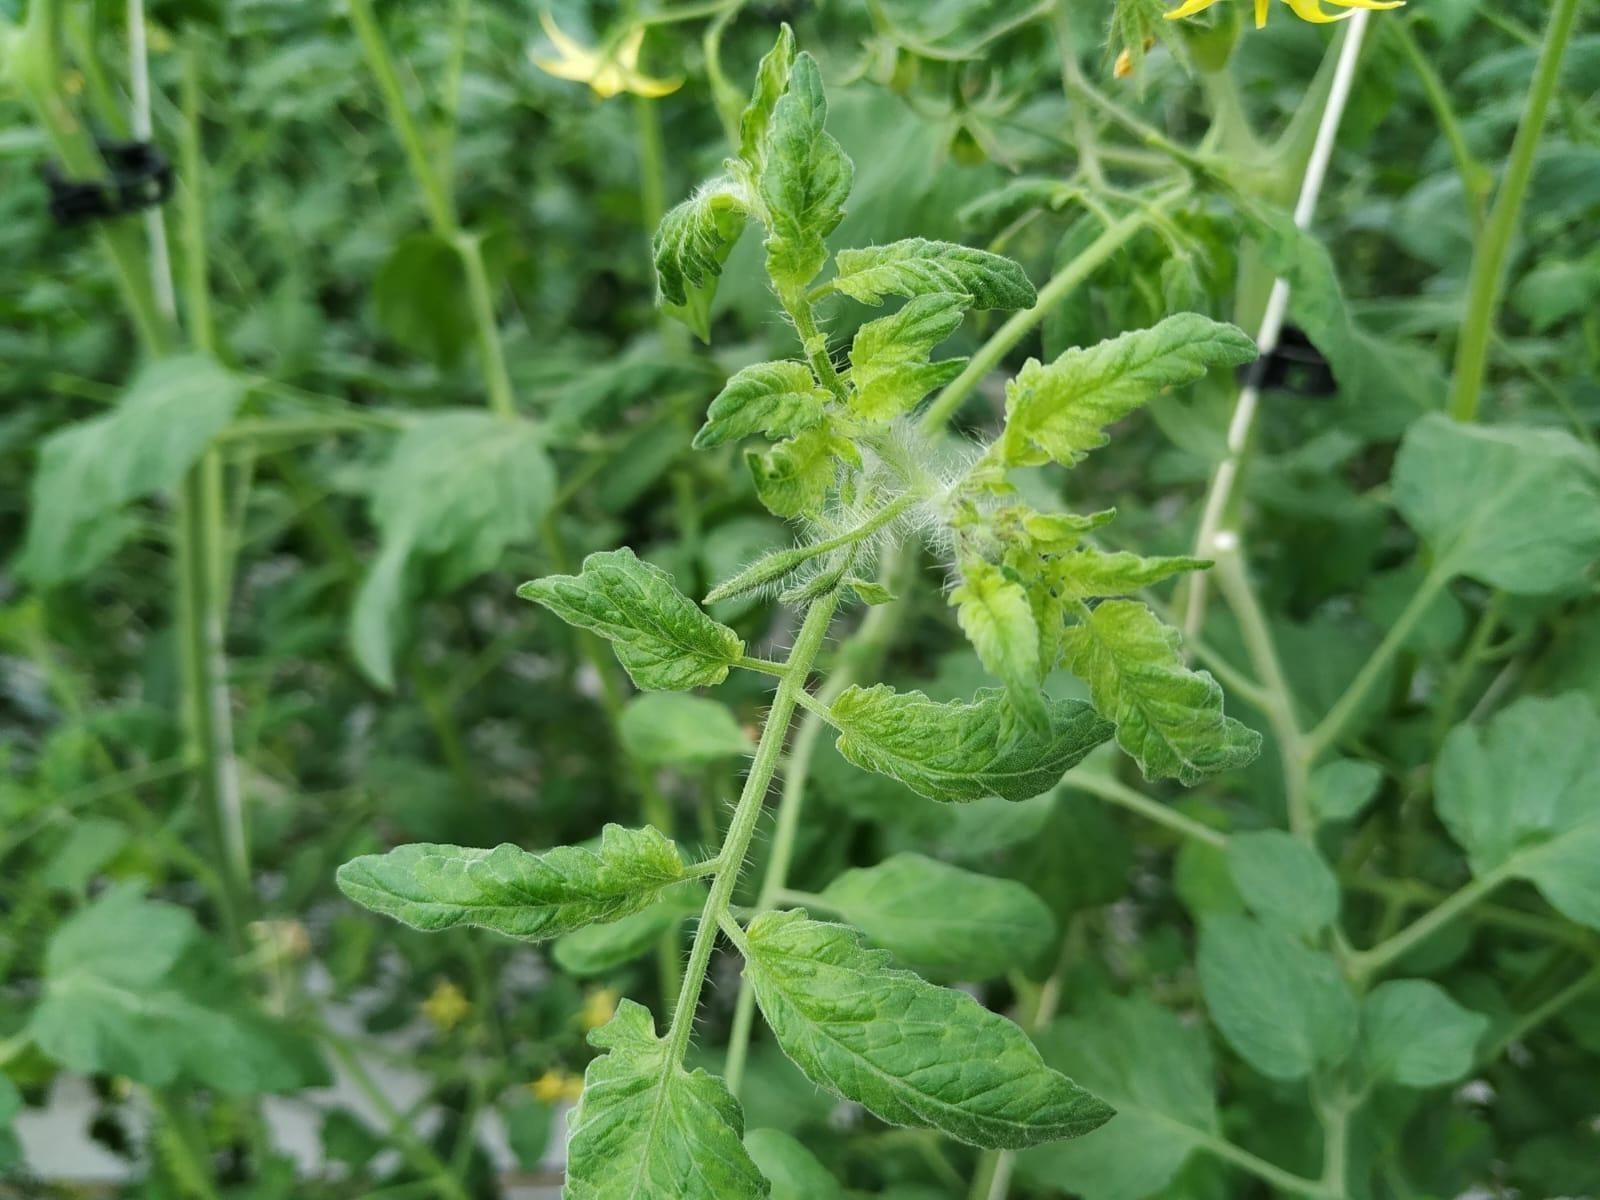Rugose leaf: (989, 310, 1256, 465), (1062, 600, 1260, 784), (831, 237, 1038, 309), (694, 359, 831, 450)
